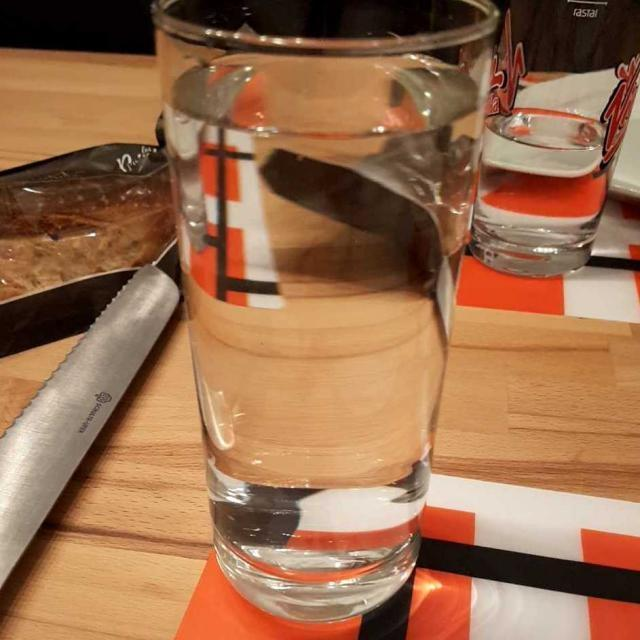water: (171, 50, 490, 590), (186, 47, 473, 553)
